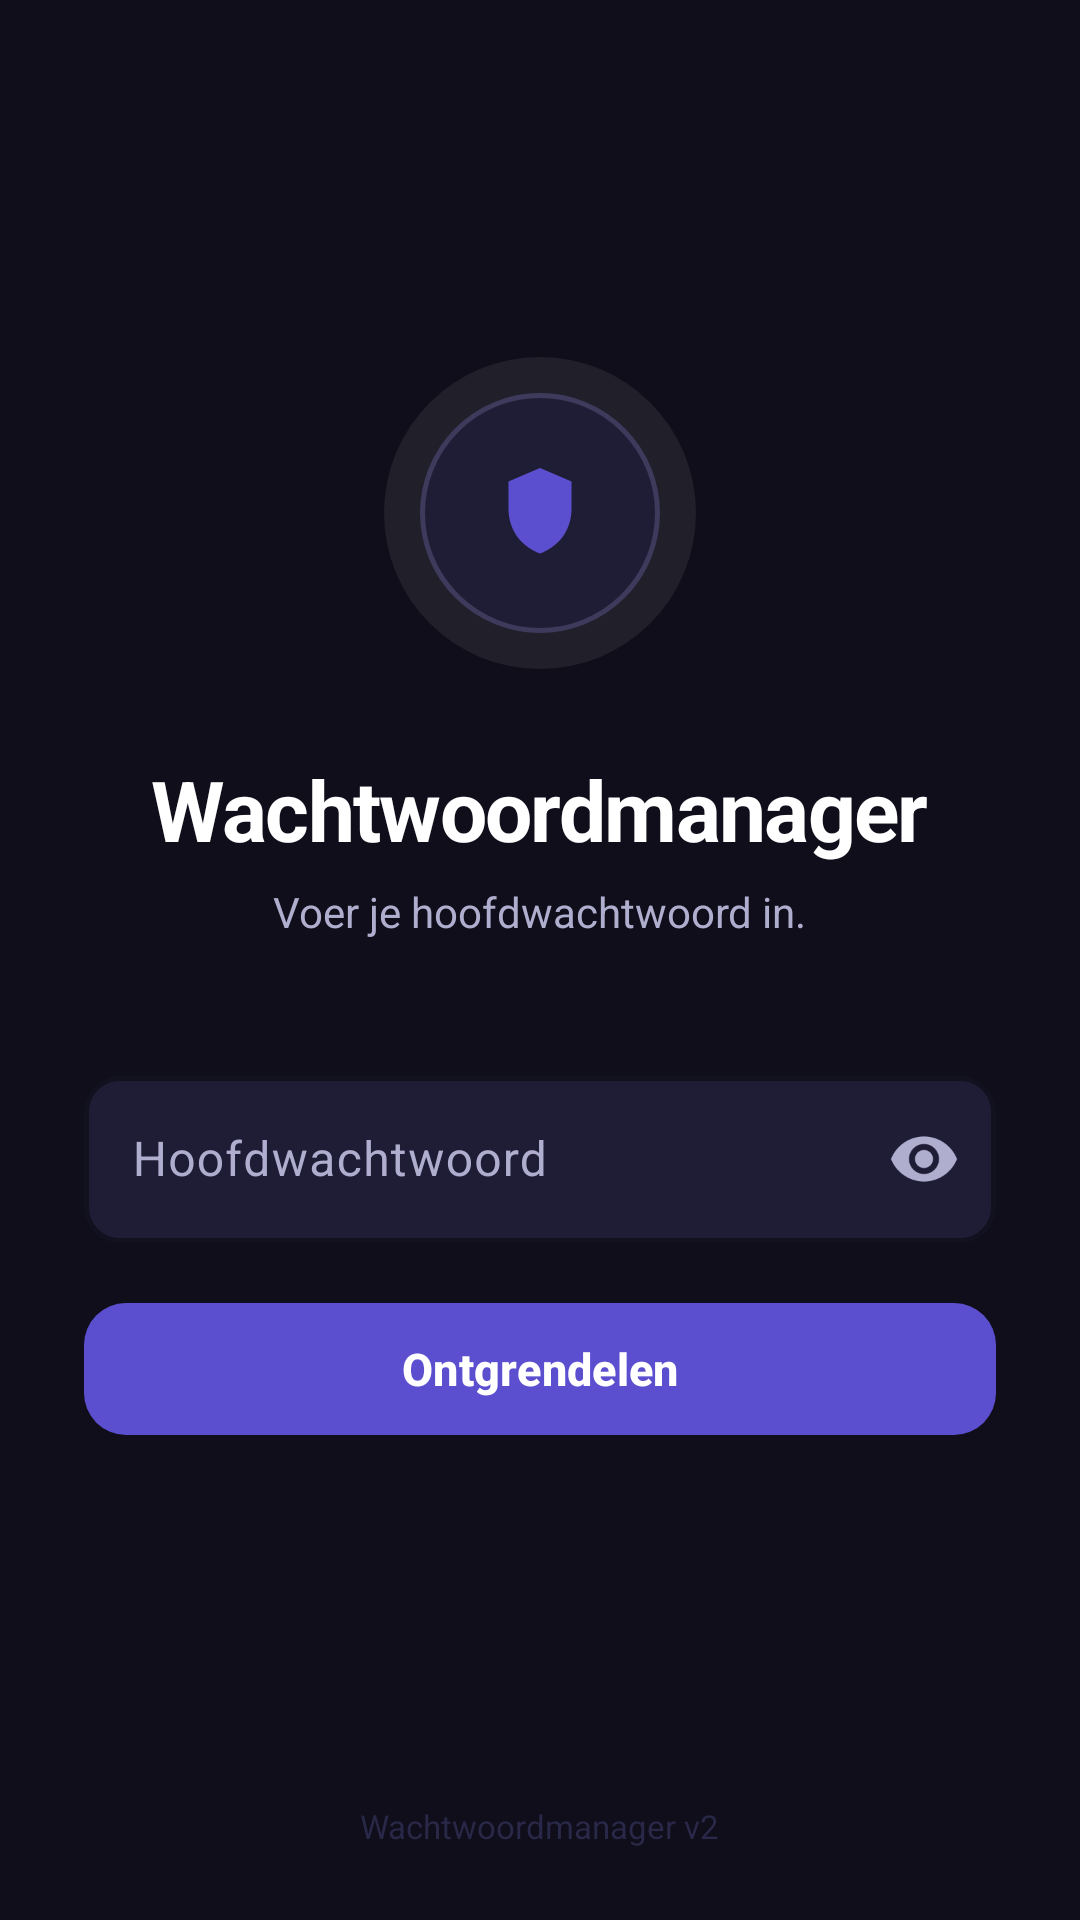

Named icons in this screenshot (1080×1920) and their bounding boxes, [left=x1, top=y1, right=x2, bottom=y2]:
shield: [left=508, top=468, right=572, bottom=554]
